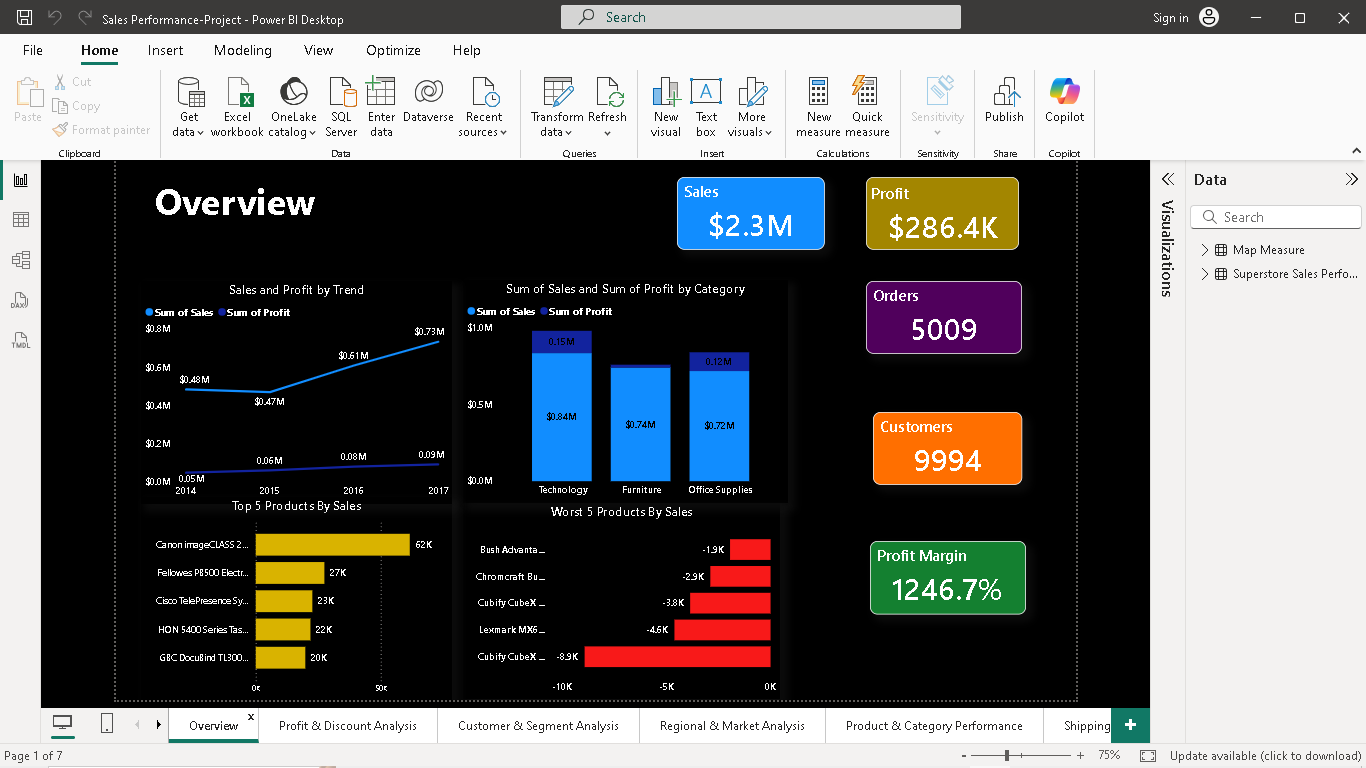

Layout of this report page (visuals, bound fields, positions):
{"tool":"powerbi","page":{"name":"Overview","canvas":[1280,720],"ordinal":0},"visuals":[{"type":"card","title":"Sales","fields":{"Values":["Sum(Superstore Sales Performance.Sales)"]},"box":[748.4,23.3,196.5,96.6],"z":0},{"type":"card","title":"Profit","fields":{"Values":["Sum(Superstore Sales Performance.Profit)"]},"box":[1000.5,22.2,204.3,96.6],"z":1000},{"type":"card","title":"Profit Margin","fields":{"Values":["Superstore Sales Performance.Profit Margin %"]},"box":[1004.9,507.5,207.7,97.7],"z":2000},{"type":"card","title":"Orders","fields":{"Values":["Superstore Sales Performance.Total Orders"]},"box":[1000.5,161,207.7,96.6],"z":3000},{"type":"card","title":"Customers","fields":{"Values":["Superstore Sales Performance.Count"]},"box":[1009.4,335.4,198.8,96.6],"z":4000},{"type":"lineChart","title":"Sales and  Profit by Trend","fields":{"Category":["Superstore Sales Performance.Order Date.Variation.Date Hierarchy.Year","Superstore Sales Performance.Order Date.Variation.Date Hierarchy.Month"],"Y":["Sum(Superstore Sales Performance.Sales)","Sum(Superstore Sales Performance.Profit)"]},"box":[33.3,161,415.3,297.6],"z":5000},{"type":"columnChart","fields":{"Category":["Superstore Sales Performance.Category"],"Y":["Sum(Superstore Sales Performance.Sales)","Sum(Superstore Sales Performance.Profit)"]},"box":[463.1,159.9,433.1,297.6],"z":6000},{"type":"barChart","title":"Top 5 Products By Sales","fields":{"Category":["Superstore Sales Performance.Product Name"],"Y":["Sum(Superstore Sales Performance.Sales)"]},"box":[33.3,449.7,415.3,270.9],"z":7000},{"type":"barChart","title":"Worst 5 Products By Sales","fields":{"Category":["Superstore Sales Performance.Product Name"],"Y":["Sum(Superstore Sales Performance.Profit)"]},"box":[463.1,457.5,423.1,262.1],"z":8000},{"type":"textbox","box":[46.6,16.7,263.2,76.6],"z":9000}]}

Visuals, with their boxes on the page's 1280x720 design canvas (x1, y1, x2, y2). These are canvas units, not pixel positions in the 1366x768 screenshot, which may show the page scaled, cropped or inside an application window:
"Sales" card: 748, 23, 945, 120
"Profit" card: 1000, 22, 1205, 119
"Profit Margin" card: 1005, 508, 1213, 605
"Orders" card: 1000, 161, 1208, 258
"Customers" card: 1009, 335, 1208, 432
"Sales and  Profit by Trend" lineChart: 33, 161, 449, 459
columnChart - Superstore Sales Performance.Category x Sum(Superstore Sales Performance.Sales): 463, 160, 896, 458
"Top 5 Products By Sales" barChart: 33, 450, 449, 721
"Worst 5 Products By Sales" barChart: 463, 458, 886, 720
textbox: 47, 17, 310, 93
